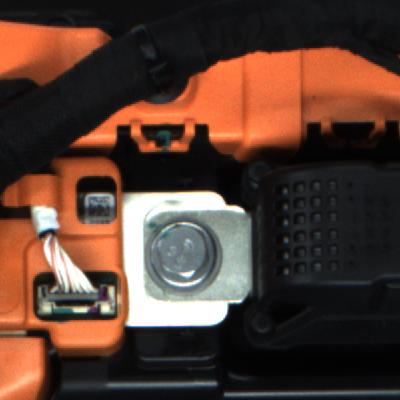nut_b: (143, 210, 232, 297)
